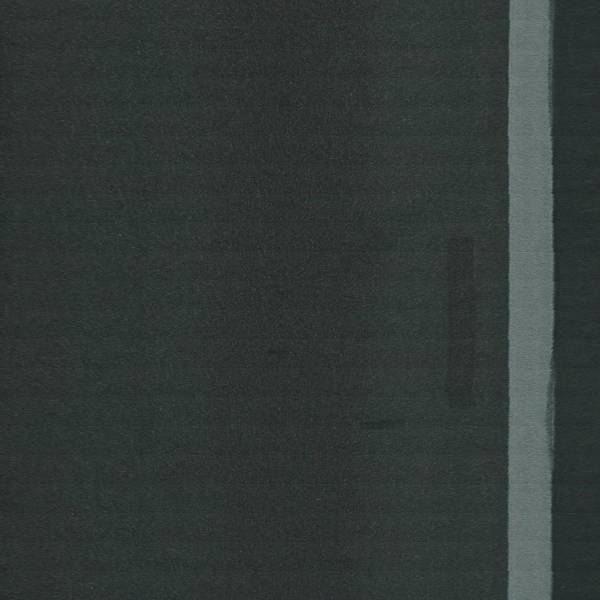road_damage: (355, 413, 411, 438)
